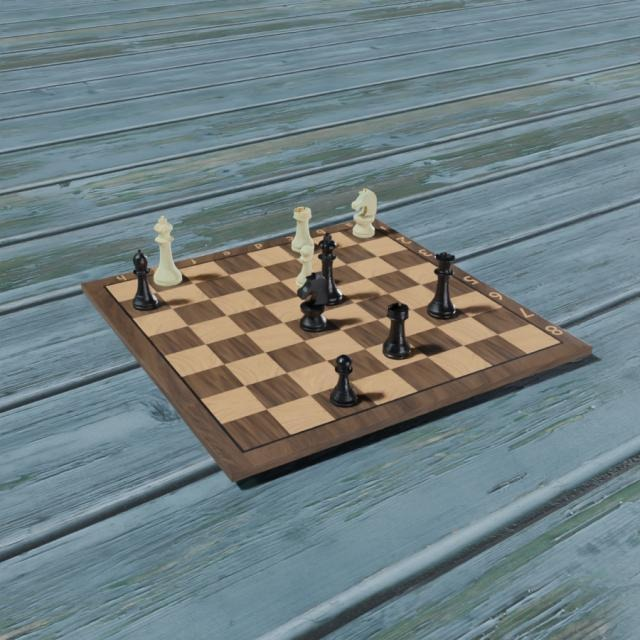black-bishop: (132, 248, 159, 312)
black-king: (313, 228, 345, 307)
black-knight: (295, 271, 333, 333)
black-pawn: (327, 354, 360, 409)
black-queen: (426, 251, 458, 321)
black-rook: (381, 299, 411, 361)
white-king: (152, 212, 184, 287)
white-knight: (351, 186, 379, 241)
white-pawn: (293, 244, 319, 288)
white-rook: (290, 202, 316, 256)
